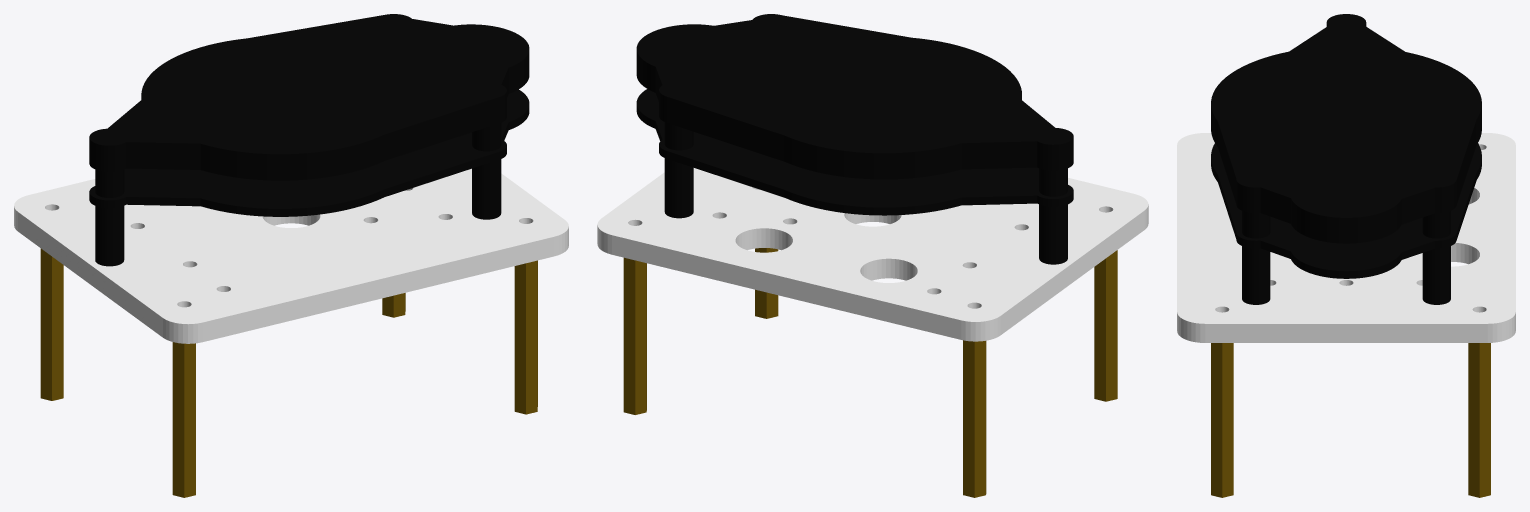
The model's file is lidar-base.dae.
3 views of the same model, side by side, from view 1: azimuth 30°, elevation 25°; view 2: azimuth 150°, elevation 25°; view 3: azimuth 270°, elevation 25° (orthographic). The views are drawn at different scales.
Parts seen in each view (by area): view 1: Part 1 (×5); view 2: Part 1 (×6); view 3: Part 1 (×4).
Part boxes in pixels (<box>): Part 1 (×5): <box>14,14,568,497</box>; Part 1 (×6): <box>597,14,1148,497</box>; Part 1 (×4): <box>1177,14,1515,497</box>.
Bounding box in the file's own units: 0.109 × 0.0762 × 0.0751.
